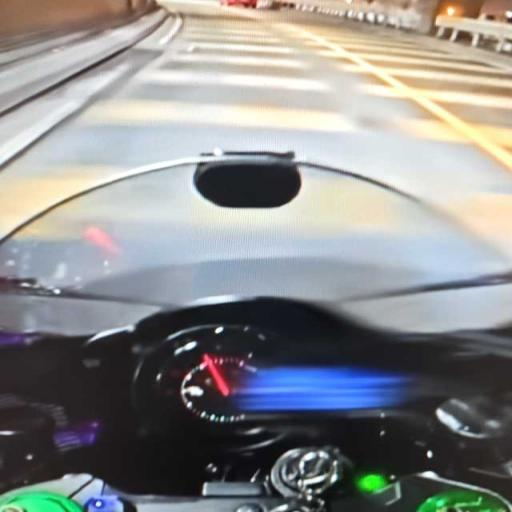car: (0, 151, 511, 511), (221, 0, 257, 8)
lane: (0, 2, 511, 232)
